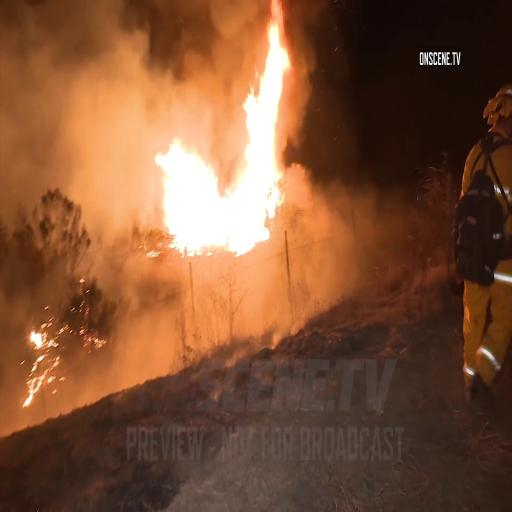fire: (157, 8, 304, 254), (16, 318, 62, 410)
smoke: (0, 0, 139, 231)
